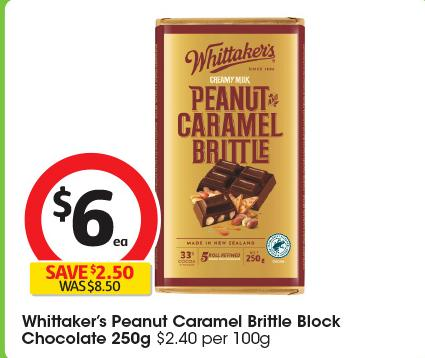description_block: (14, 300, 344, 351)
price_main: (15, 155, 162, 262)
product_image_block: (146, 15, 311, 300)
promo_text_block: (24, 261, 159, 300)
unit_price_block: (155, 327, 277, 352)
